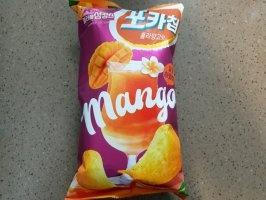snack: (63, 0, 189, 200)
